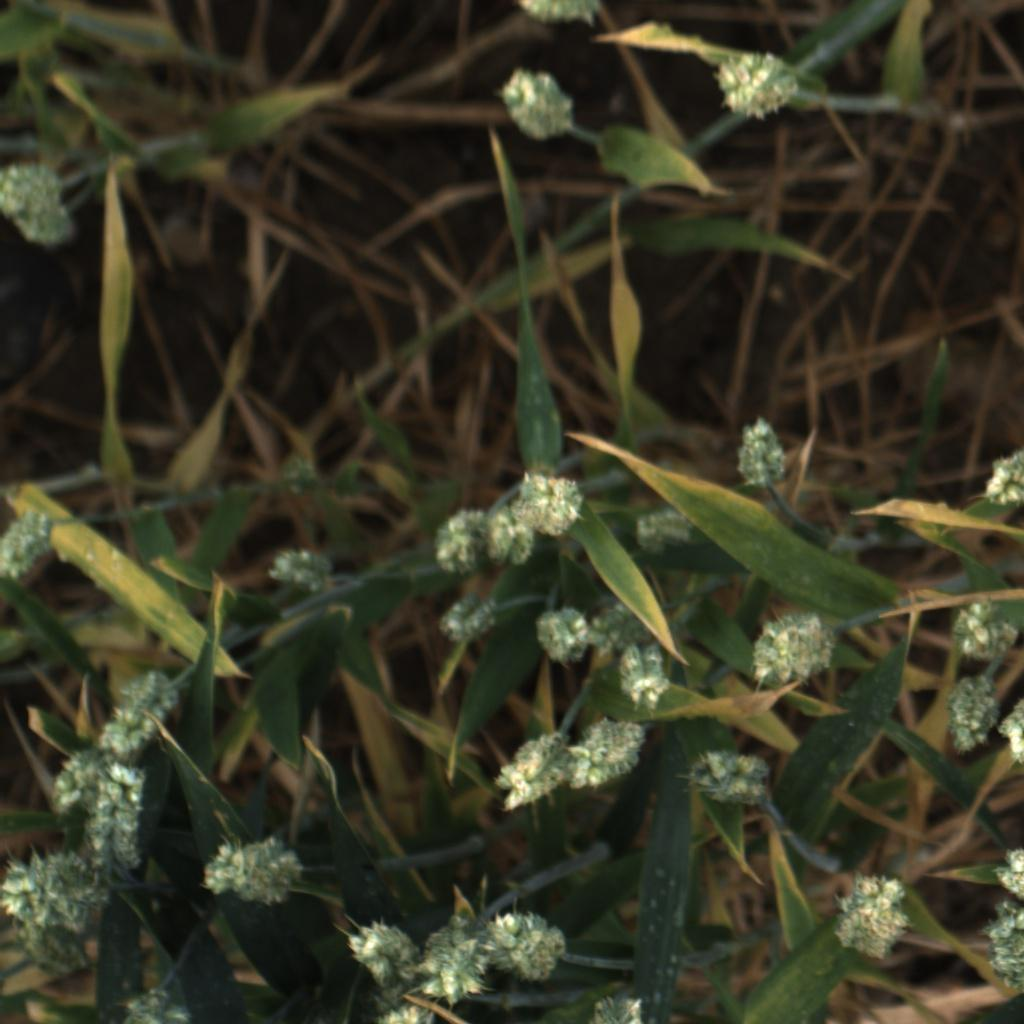0-0: (81, 760, 158, 881), (823, 868, 913, 966), (93, 662, 183, 758), (199, 830, 302, 913), (3, 848, 100, 931), (0, 164, 83, 259), (564, 709, 650, 799), (745, 614, 840, 687), (707, 51, 798, 124), (340, 909, 417, 993), (687, 746, 777, 816), (486, 909, 563, 988), (500, 64, 577, 141), (10, 916, 90, 990), (513, 469, 590, 545), (493, 730, 560, 815), (419, 922, 489, 1003), (948, 592, 1024, 665), (727, 413, 797, 492), (581, 599, 657, 664), (944, 670, 1001, 754), (425, 508, 487, 578), (481, 504, 540, 575), (527, 603, 590, 668), (977, 906, 1024, 993), (2, 506, 54, 584), (616, 644, 673, 714), (436, 593, 503, 649), (264, 542, 333, 595), (627, 504, 691, 556), (109, 984, 188, 1024), (45, 747, 93, 809), (512, 0, 607, 31), (979, 447, 1024, 510), (586, 993, 661, 1024), (995, 843, 1024, 906), (365, 1000, 437, 1024), (1000, 697, 1024, 763)
